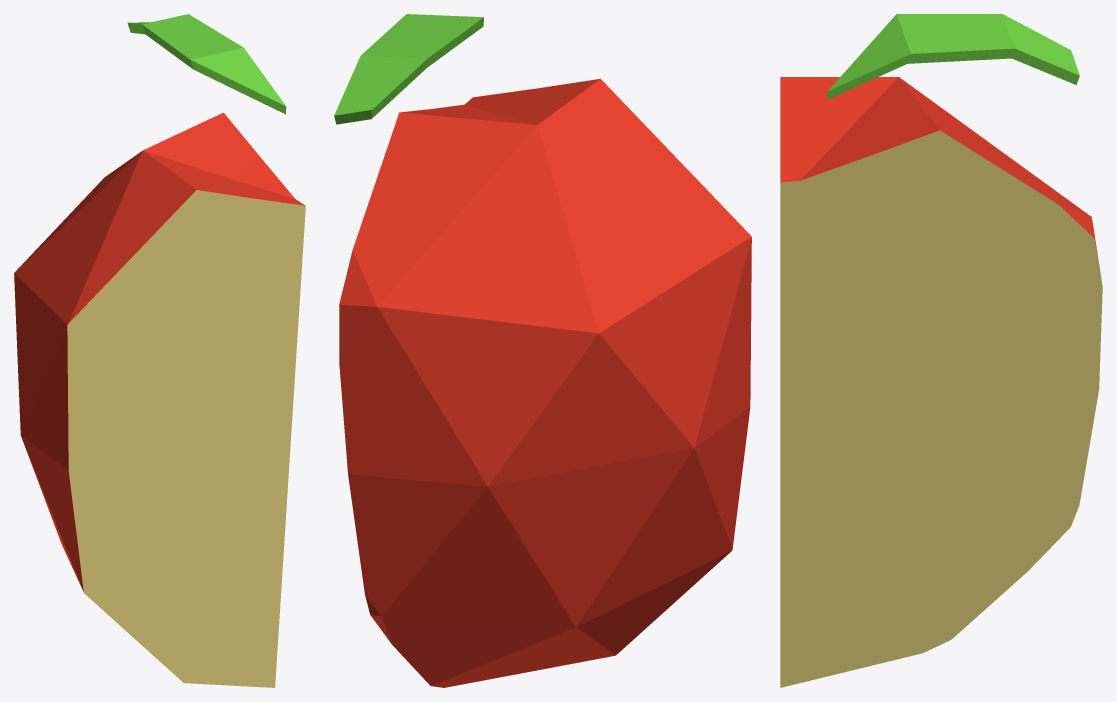
Rendered from AppleQu2.fbx.
3 renders of one model, left to right at view 1: azimuth 30°, elevation 25°; view 2: azimuth 150°, elevation 25°; view 3: azimuth 270°, elevation 25°, orthographic. The views are drawn at different scales.
Parts seen in each view (by area): view 1: AppleQu2; view 2: AppleQu2; view 3: AppleQu2.
Part boxes in pixels (x1,y1,x2,y2): AppleQu2: (14,14,305,687); AppleQu2: (334,14,751,687); AppleQu2: (780,14,1102,687).
Size of the model in its own units: 88.79 by 211 by 93.82.
